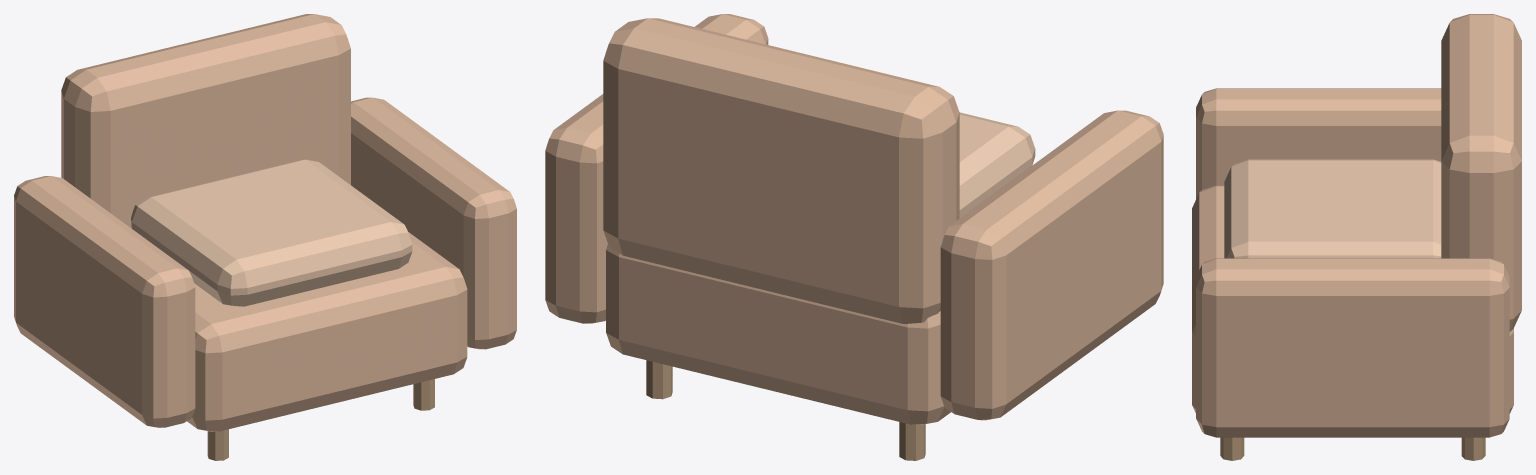
The model's file is th_sessel.glb.
3 views of the same model, side by side, from view 1: azimuth 30°, elevation 25°; view 2: azimuth 150°, elevation 25°; view 3: azimuth 270°, elevation 25° (orthographic). The views are drawn at different scales.
Parts seen in each view (by area): view 1: sessel; view 2: sessel; view 3: sessel.
Boxes of the visible parts, x1,y1,x2,y2 form: sessel: (14, 14, 516, 460); sessel: (545, 14, 1163, 460); sessel: (1192, 14, 1521, 460).
Size of the model in its own units: 1.16 by 0.895 by 0.82.
